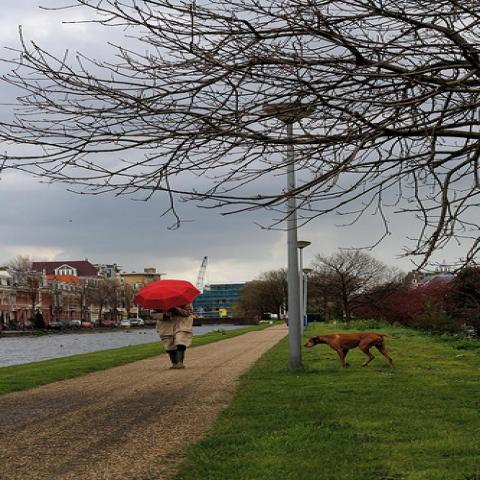car: (47, 322, 67, 330), (96, 320, 115, 328), (130, 318, 146, 326), (82, 321, 96, 329), (70, 319, 82, 327), (120, 320, 132, 327), (146, 320, 155, 325)
